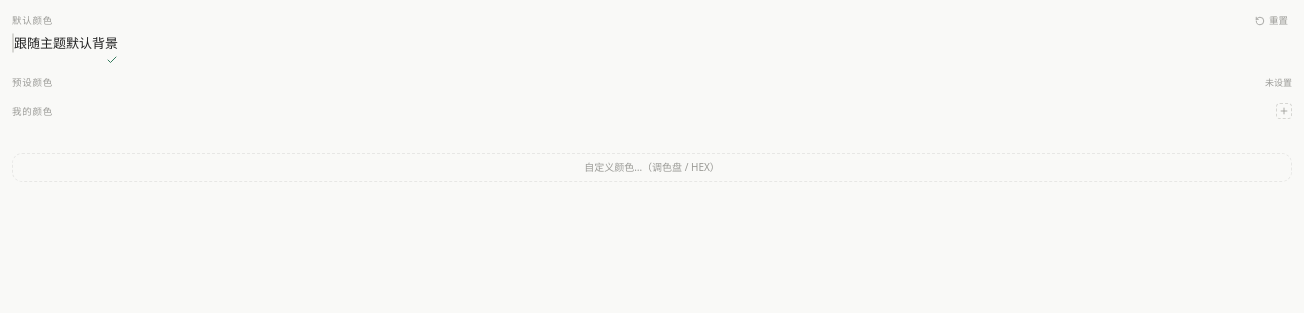
it: ColorPaletteEditor › disables saving a duplicate and can delete a personal color
This screenshot has width=1304, height=313.
Later steps or results of the test are not shown.
What coordinates should you click on to do the following:
click the button "自定义颜色…（调色盘 / HEX）"
I would click on:
 (652, 167)
Its box is [12,153,1292,182].
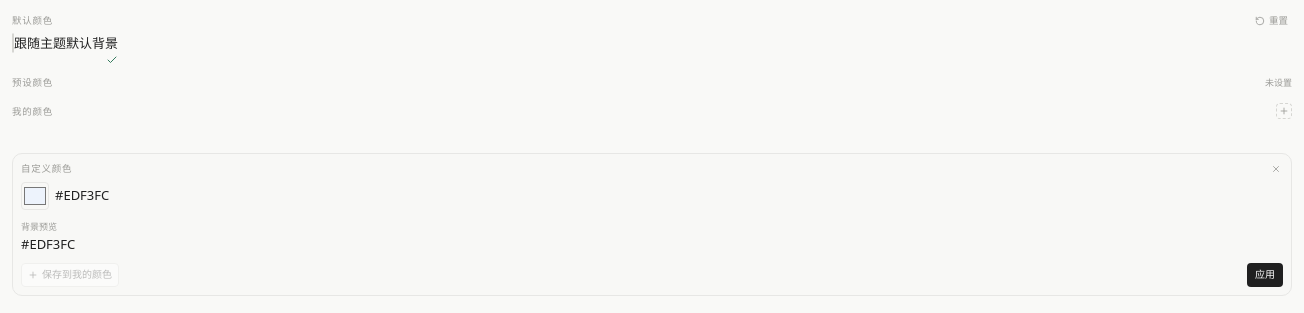
Now the field named "HEX 颜色值" holds "#EDF3FC", box [55,186,251,206]
Now the button "保存到我的颜色" is disabled, box [21,263,119,287]
